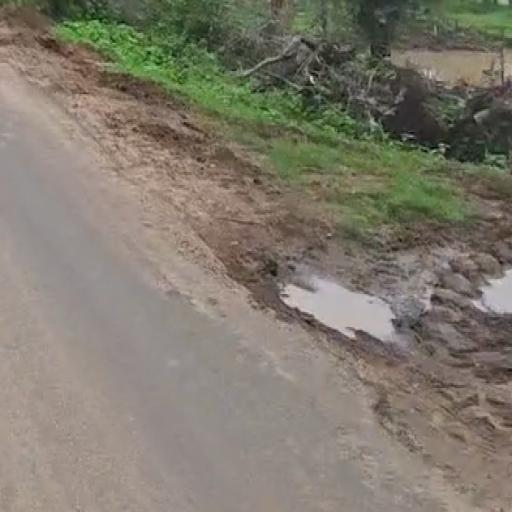edge_damage: (38, 67, 260, 281)
